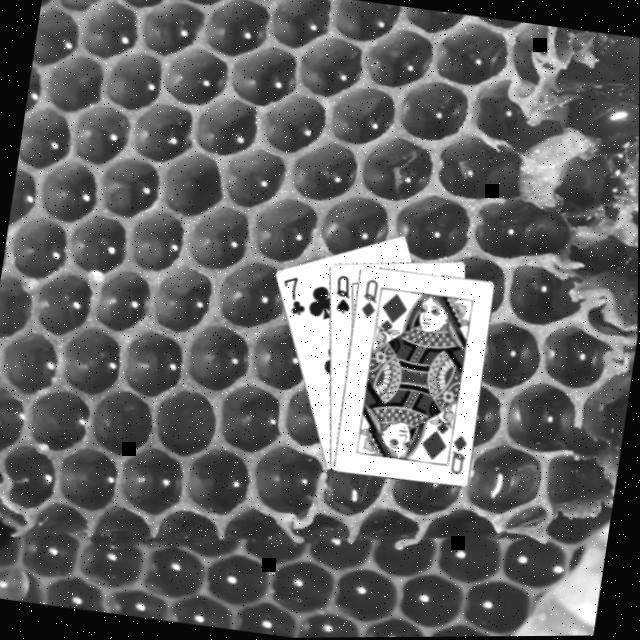7C: (275, 273, 311, 320)
QD: (356, 276, 382, 323), (445, 432, 470, 479)
QS: (329, 272, 356, 318)
